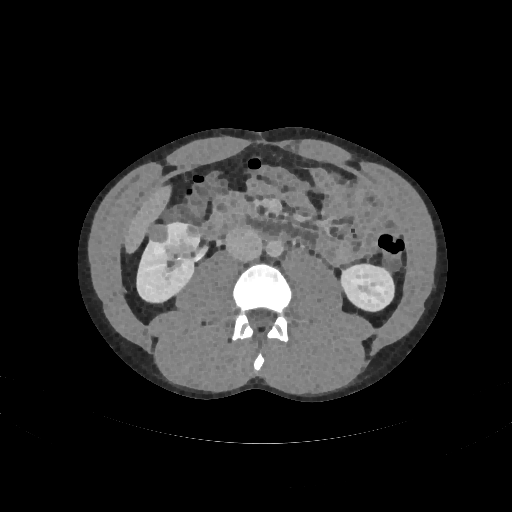Lesion: (144, 220, 171, 246)
